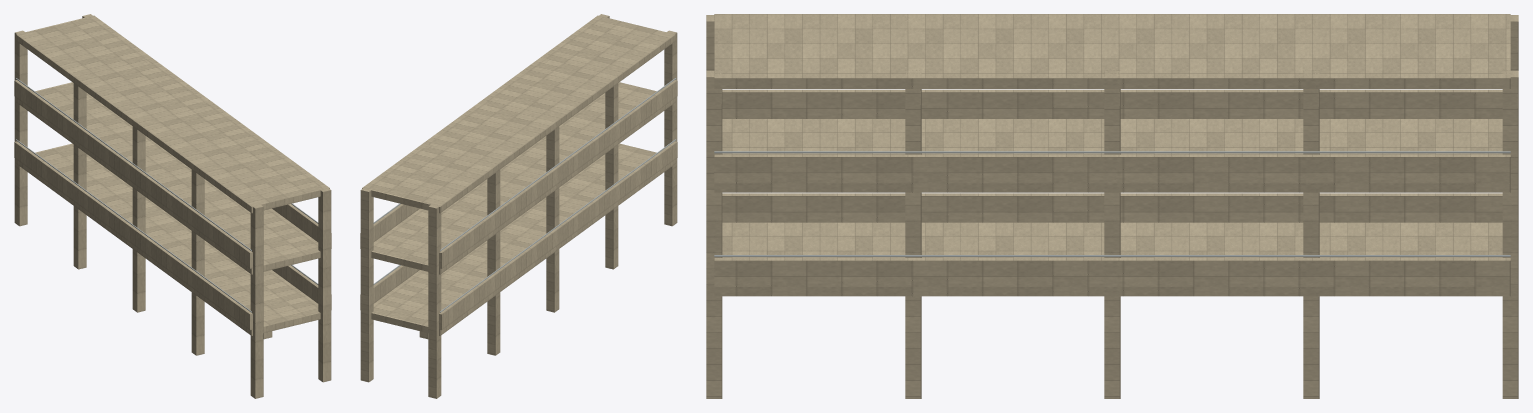
3 renders of one model, left to right at view 1: azimuth 30°, elevation 25°; view 2: azimuth 150°, elevation 25°; view 3: azimuth 270°, elevation 25°, orthographic. The views are drawn at different scales.
Parts seen in each view (by area): view 1: academicLinkEast__structure, academicLinkEast__rail; view 2: academicLinkEast__structure, academicLinkEast__rail; view 3: academicLinkEast__structure, academicLinkEast__rail.
Boxes of the visible parts, x1,y1,x2,y2 form: academicLinkEast__structure: [14, 14, 331, 398]; academicLinkEast__rail: [14, 78, 331, 330]; academicLinkEast__structure: [360, 14, 677, 398]; academicLinkEast__rail: [360, 78, 677, 330]; academicLinkEast__structure: [706, 14, 1518, 398]; academicLinkEast__rail: [714, 89, 1510, 286].
Bounding box in the file's own units: 5.43 × 12.1 × 27.71.
Materials: 2 (1 with a texture image).
